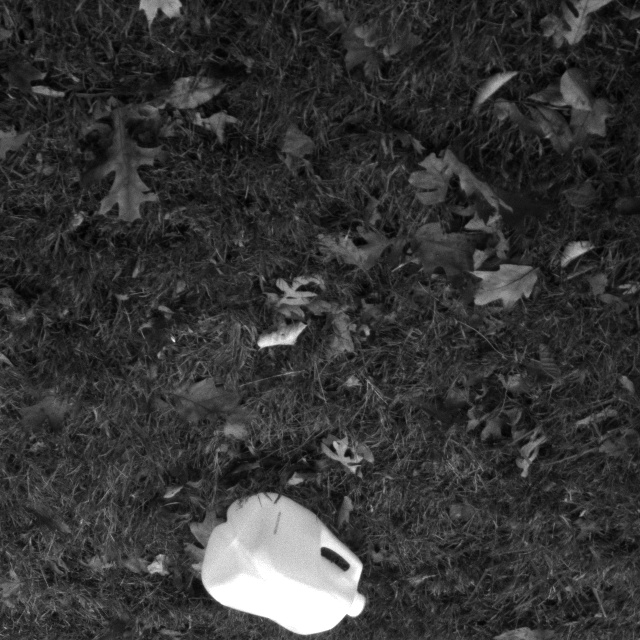can: (194, 485, 369, 640)
